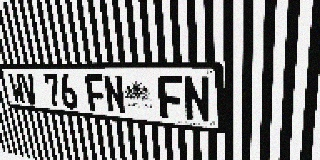6: (57, 74, 79, 110)
7: (43, 74, 63, 108)
F: (157, 75, 184, 120), (84, 74, 107, 113)
N: (183, 76, 211, 123), (103, 75, 127, 114)
V: (20, 73, 39, 106)
W: (8, 73, 27, 104)
